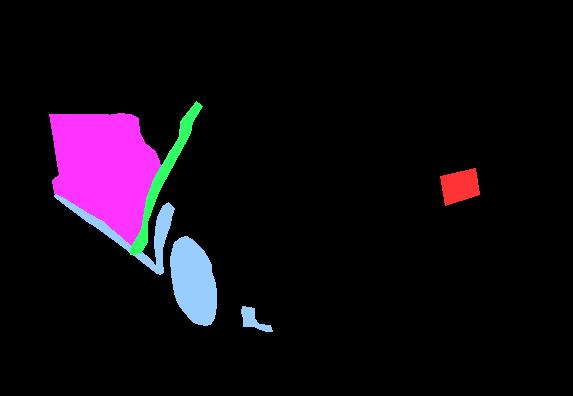Broken part: (130, 101, 202, 254)
Corrosion: (54, 194, 156, 272), (170, 236, 216, 325), (154, 202, 174, 274), (241, 306, 272, 331), (112, 219, 121, 231)
Dent: (100, 113, 161, 246), (49, 114, 114, 222)
Flaking: (160, 150, 174, 173)
Missing part: (440, 168, 479, 205)
Scratch: (90, 177, 101, 190)
